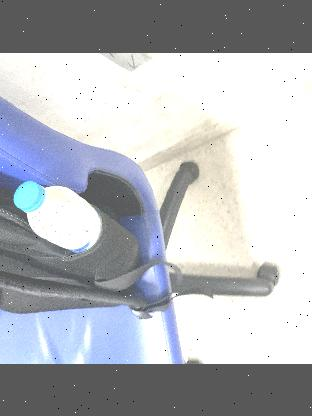Plastic Bottle: (10, 178, 110, 254)
